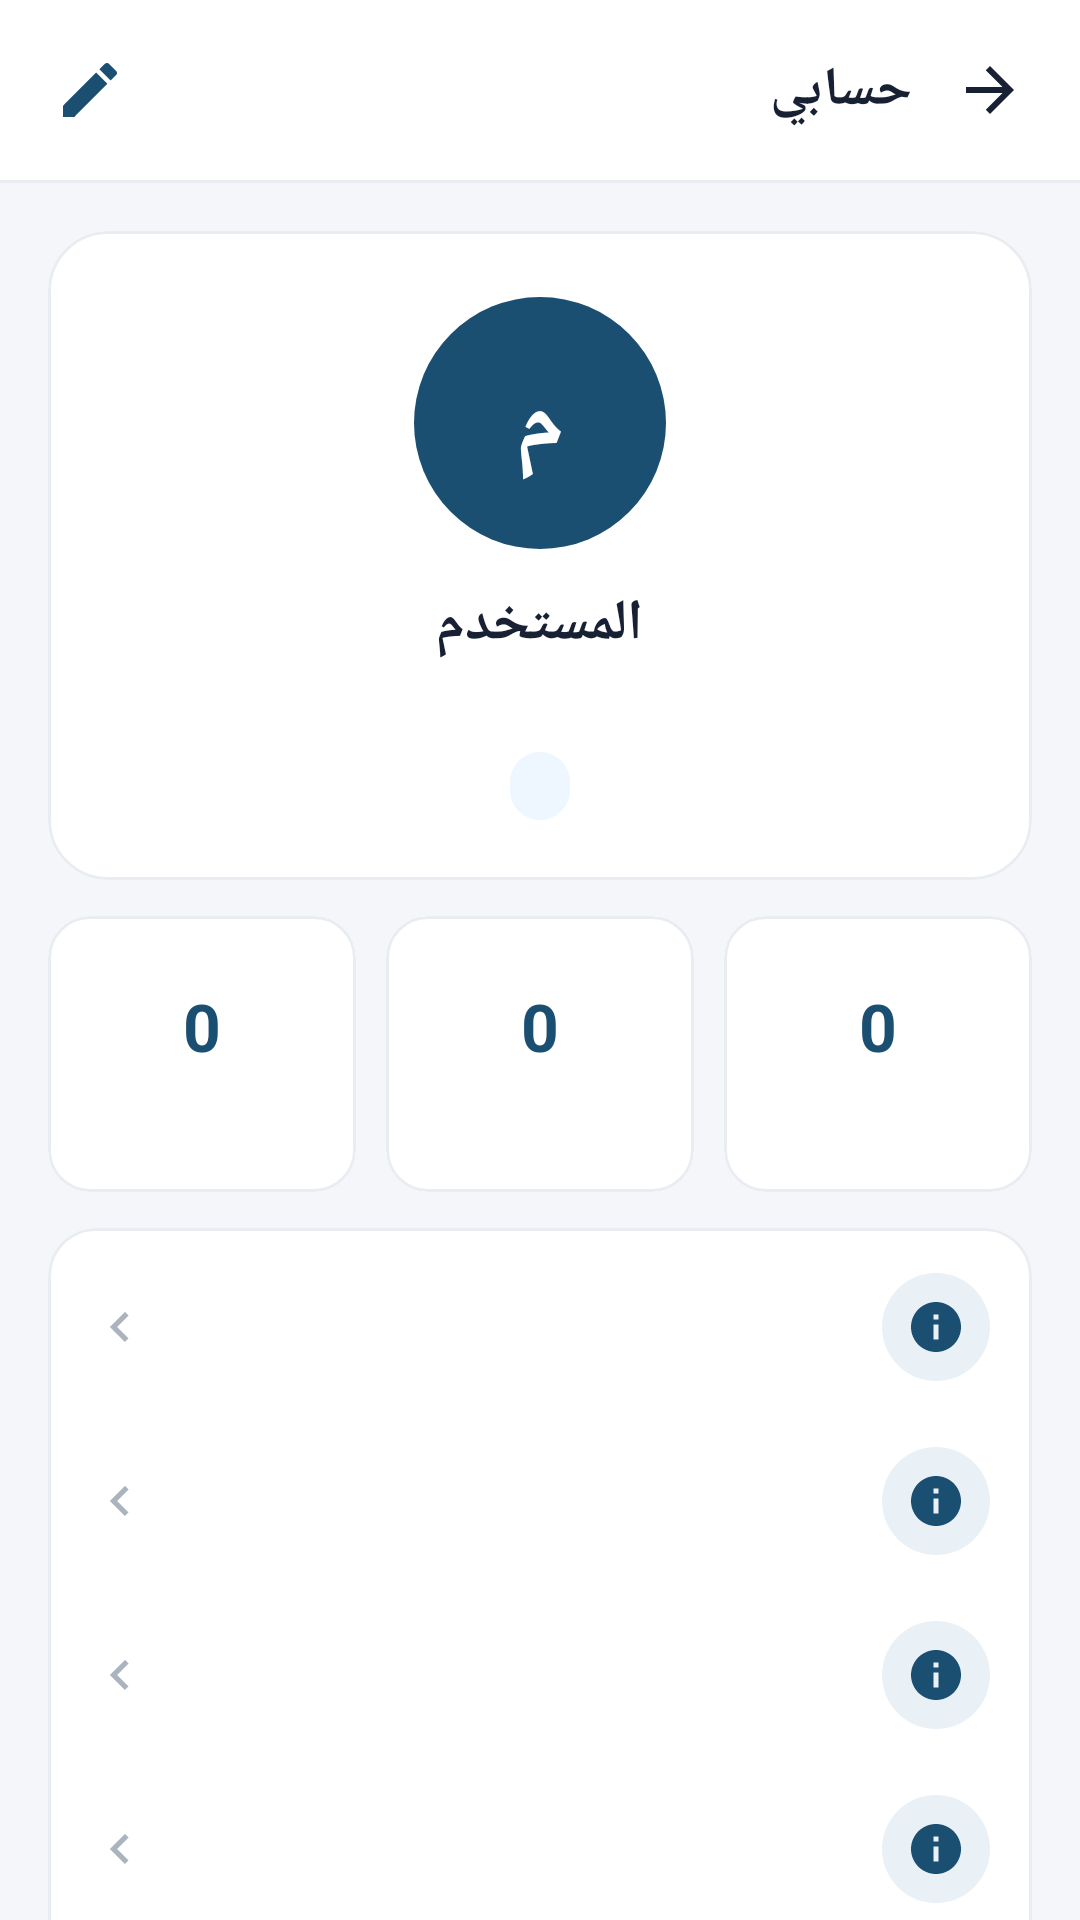

Named icons in this screenshot (1080 x 1920) and their centers, [x,y]:
chevron: [119,1327], [119,1501], [119,1675], [119,1849]
info: [936,1327], [936,1501], [936,1675], [936,1849]
تعديل الحساب: [90,90]
رجوع: [990,90]
